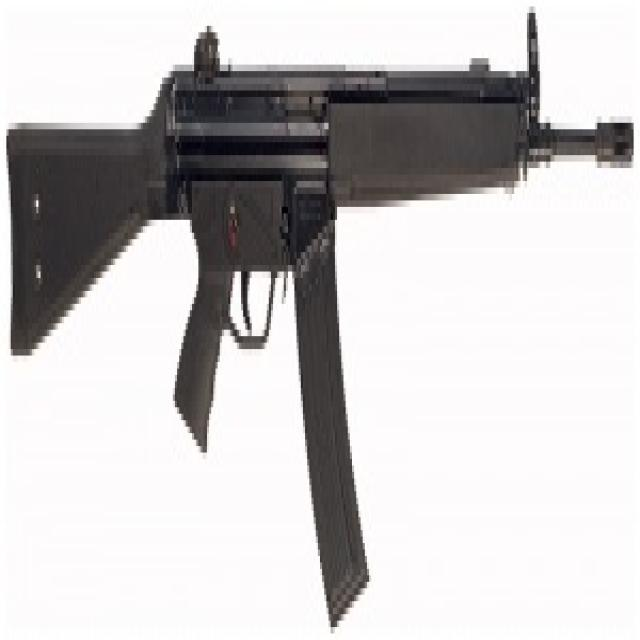rifle: (8, 17, 640, 640)
